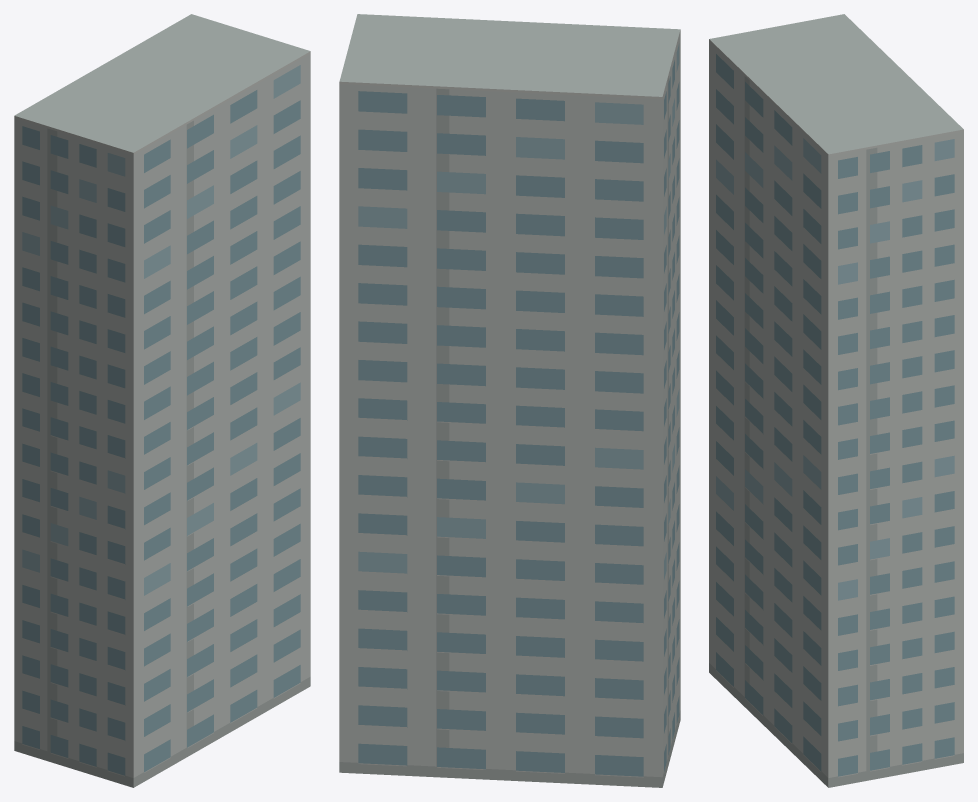
File: residential-72b79255-c1a2-4c07-8ff0-3c58da9b07eb.glb
3 renders of one model, left to right at view 1: azimuth 30°, elevation 25°; view 2: azimuth 150°, elevation 25°; view 3: azimuth 270°, elevation 25°, orthographic. The views are drawn at different scales.
Parts seen in each view (by area): view 1: residential-72b79255-c1a2-4c07-8ff0-3c58da9b07eb.tmp; view 2: residential-72b79255-c1a2-4c07-8ff0-3c58da9b07eb.tmp; view 3: residential-72b79255-c1a2-4c07-8ff0-3c58da9b07eb.tmp.
Boxes of the visible parts, x1,y1,x2,y2 form: residential-72b79255-c1a2-4c07-8ff0-3c58da9b07eb.tmp: [14, 14, 310, 787]; residential-72b79255-c1a2-4c07-8ff0-3c58da9b07eb.tmp: [339, 14, 680, 787]; residential-72b79255-c1a2-4c07-8ff0-3c58da9b07eb.tmp: [709, 14, 963, 787].
Size of the model in its own units: 32.81 by 69 by 25.17.
